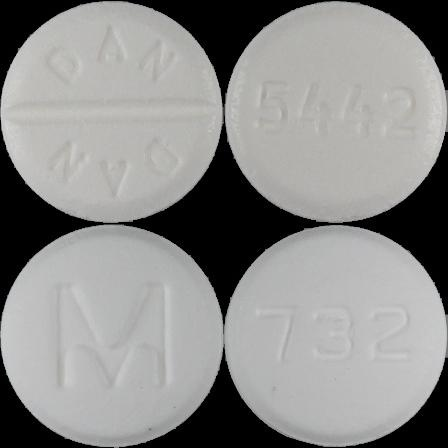35356-677: (0, 0, 224, 224)
